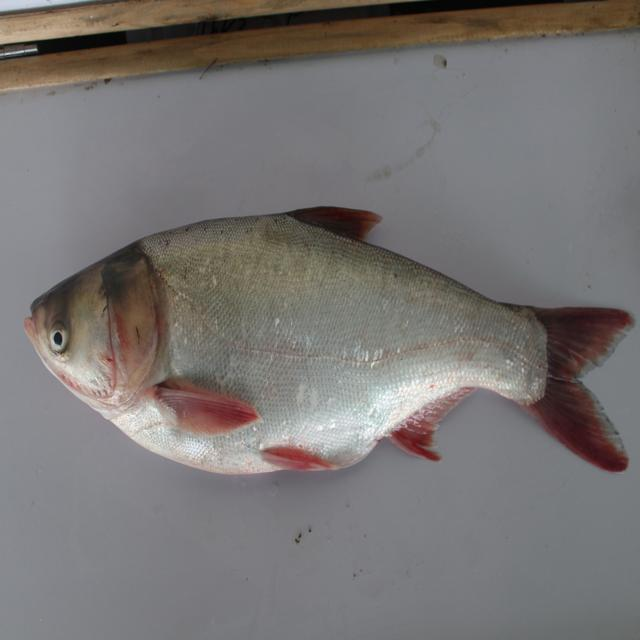SilverCarp: (35, 211, 628, 505)
